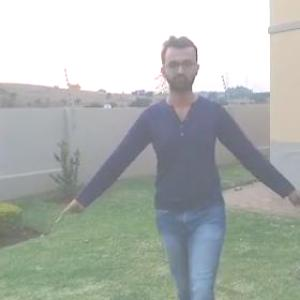land: (77, 43, 293, 299)
